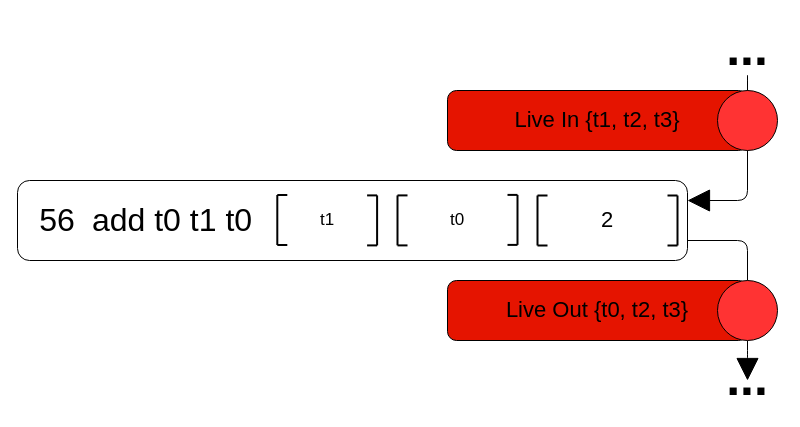
This 800x427 diagram has some shape labels left out. Here are the shapes that lost their labels. From the top down, the centre of each, then its label:
(x=747, y=120): Point 1
(x=747, y=310): Point 2
